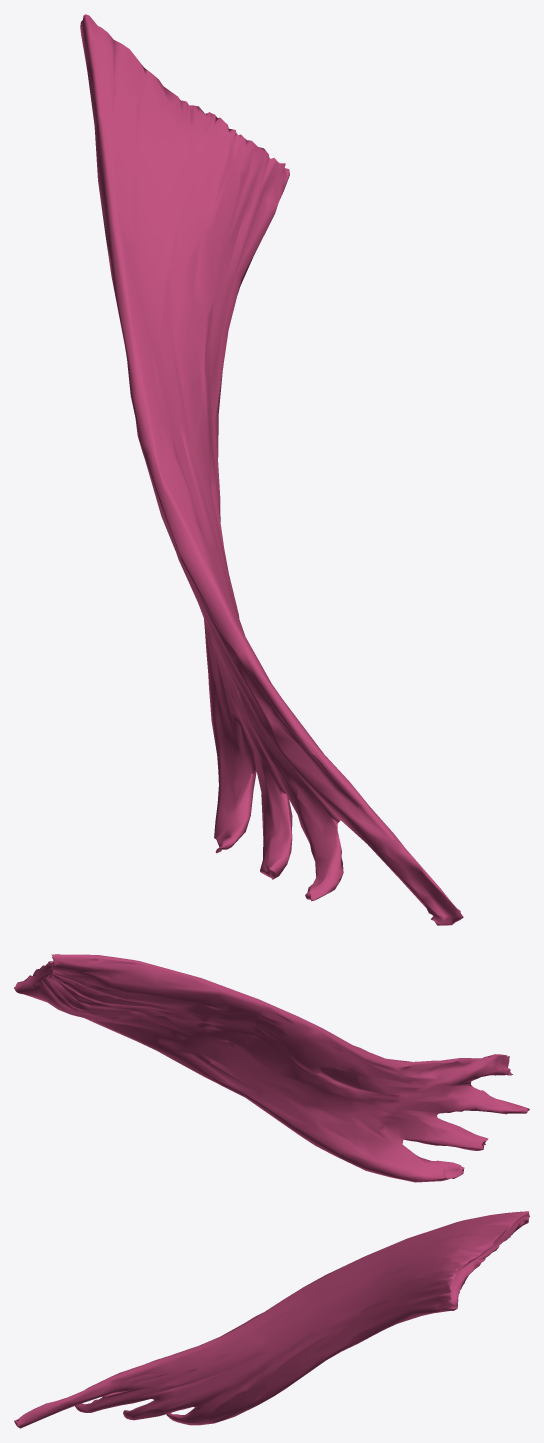
The picture shows the model from 3 angles, top to bottom: view 1: azimuth 30°, elevation 25°; view 2: azimuth 150°, elevation 25°; view 3: azimuth 270°, elevation 25°; orthographic projection. The views are drawn at different scales.
Visible parts, largest first — view 1: 左侧肩胛提肌; view 2: 左侧肩胛提肌; view 3: 左侧肩胛提肌.
Part boxes in pixels (x1,y1,x2,y2): 左侧肩胛提肌: (80,14,463,925); 左侧肩胛提肌: (14,954,529,1182); 左侧肩胛提肌: (14,1211,529,1428).
Bounding box in the file's own units: 0.0905 × 0.1265 × 0.2252.
